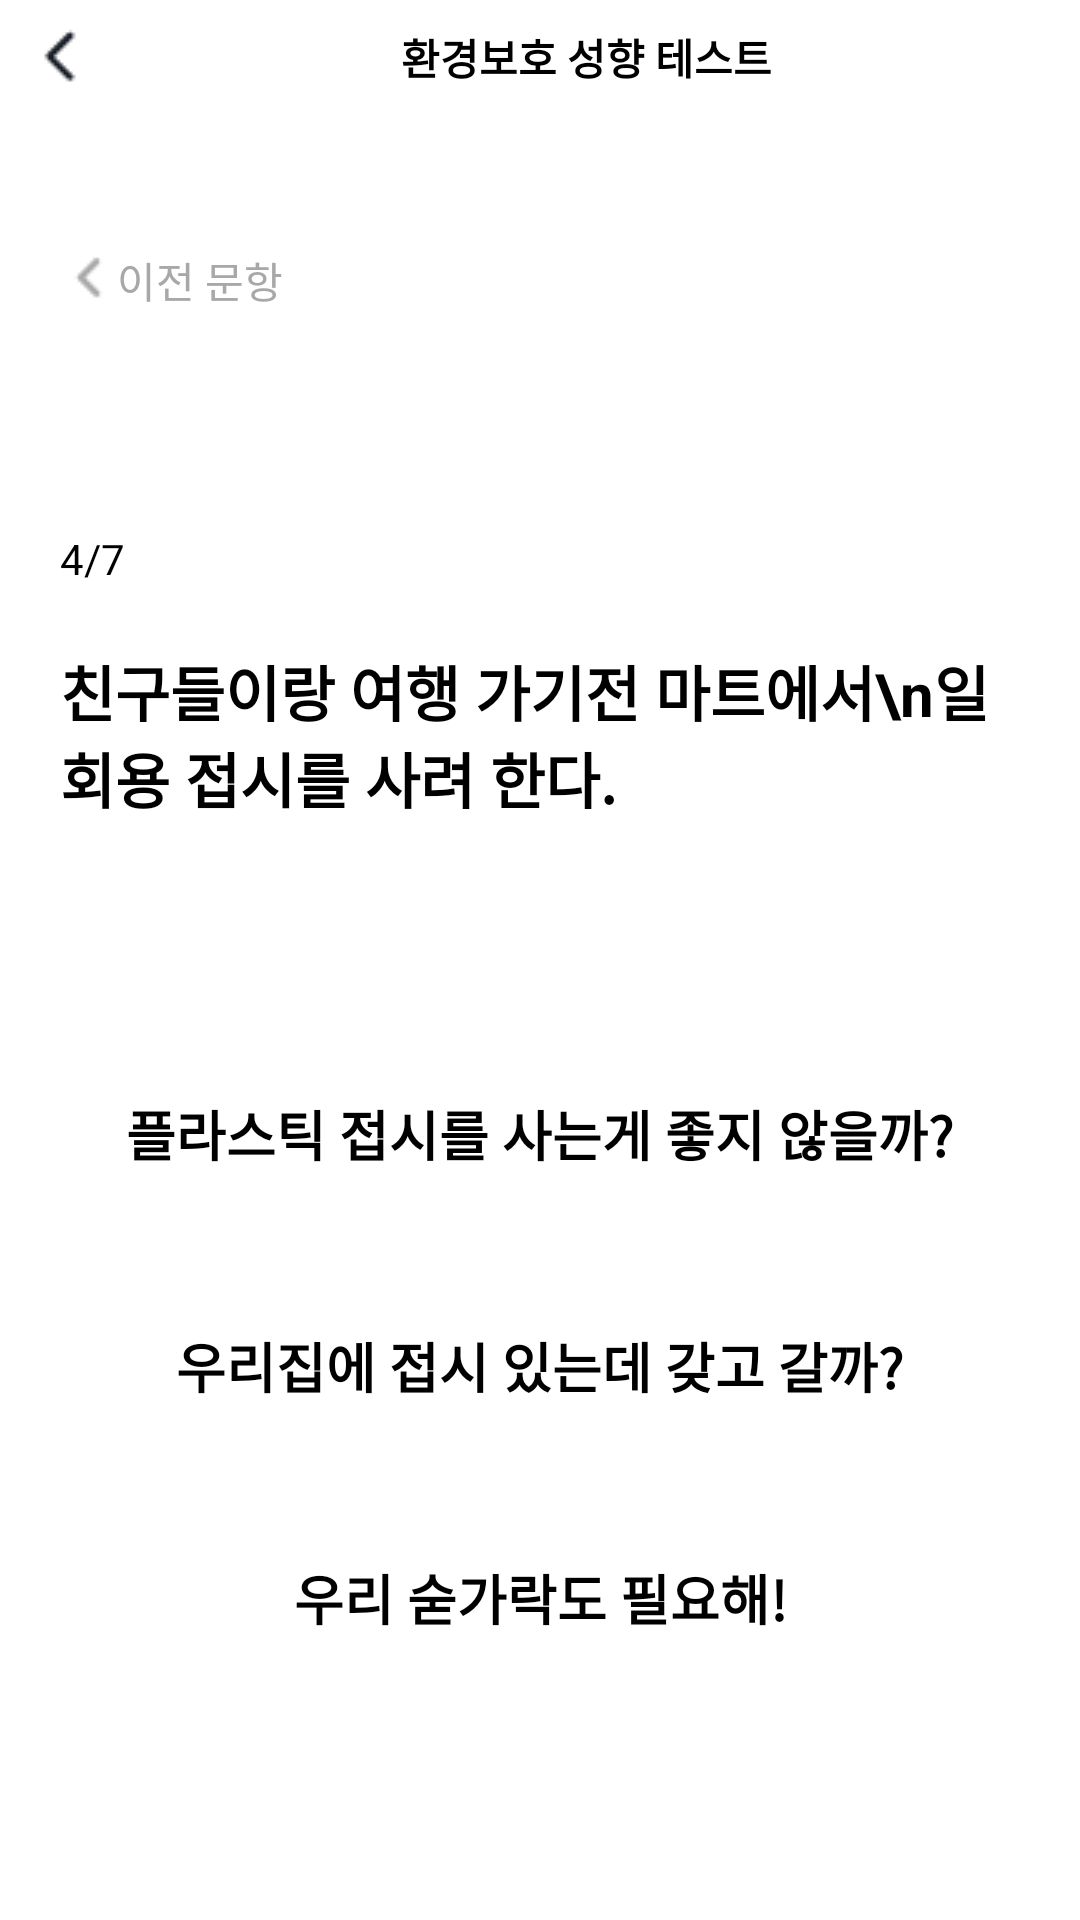

Icons on this 1080x1920 Android screen, each with the point to tap as [x,y]:
backicon: [60,56]
greybackicon: [88,277]
